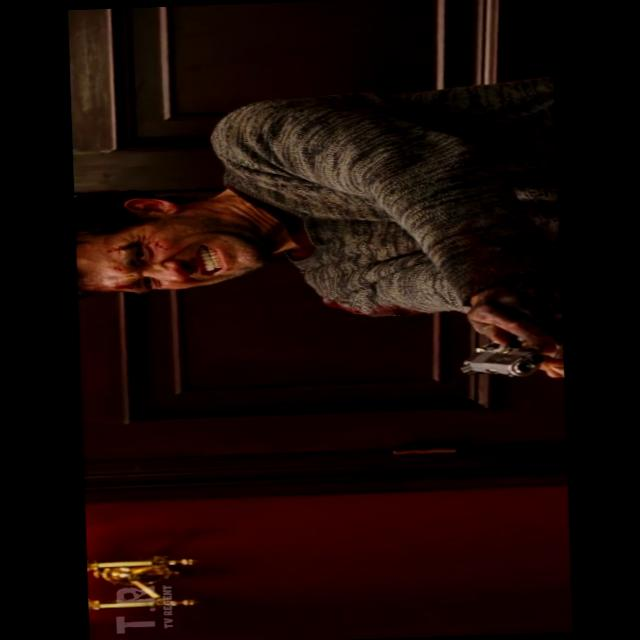handgun: (434, 307, 590, 394)
